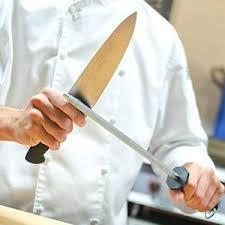Knife: (24, 10, 137, 165)
